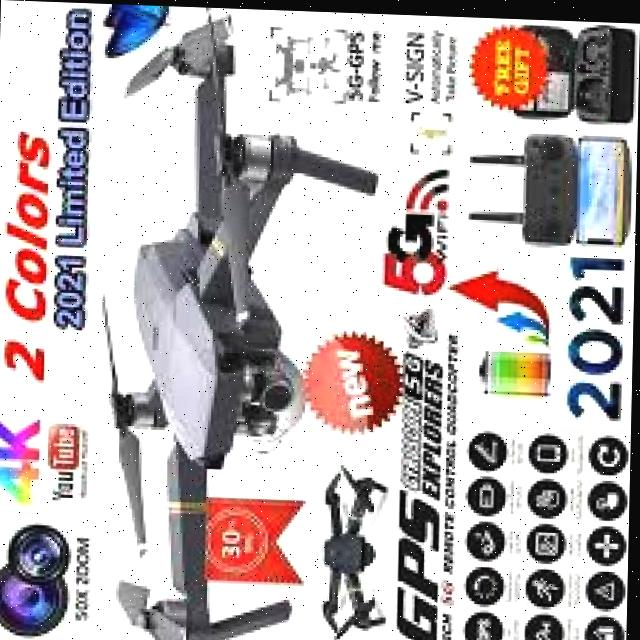drone: (77, 15, 384, 640), (304, 455, 406, 640)
